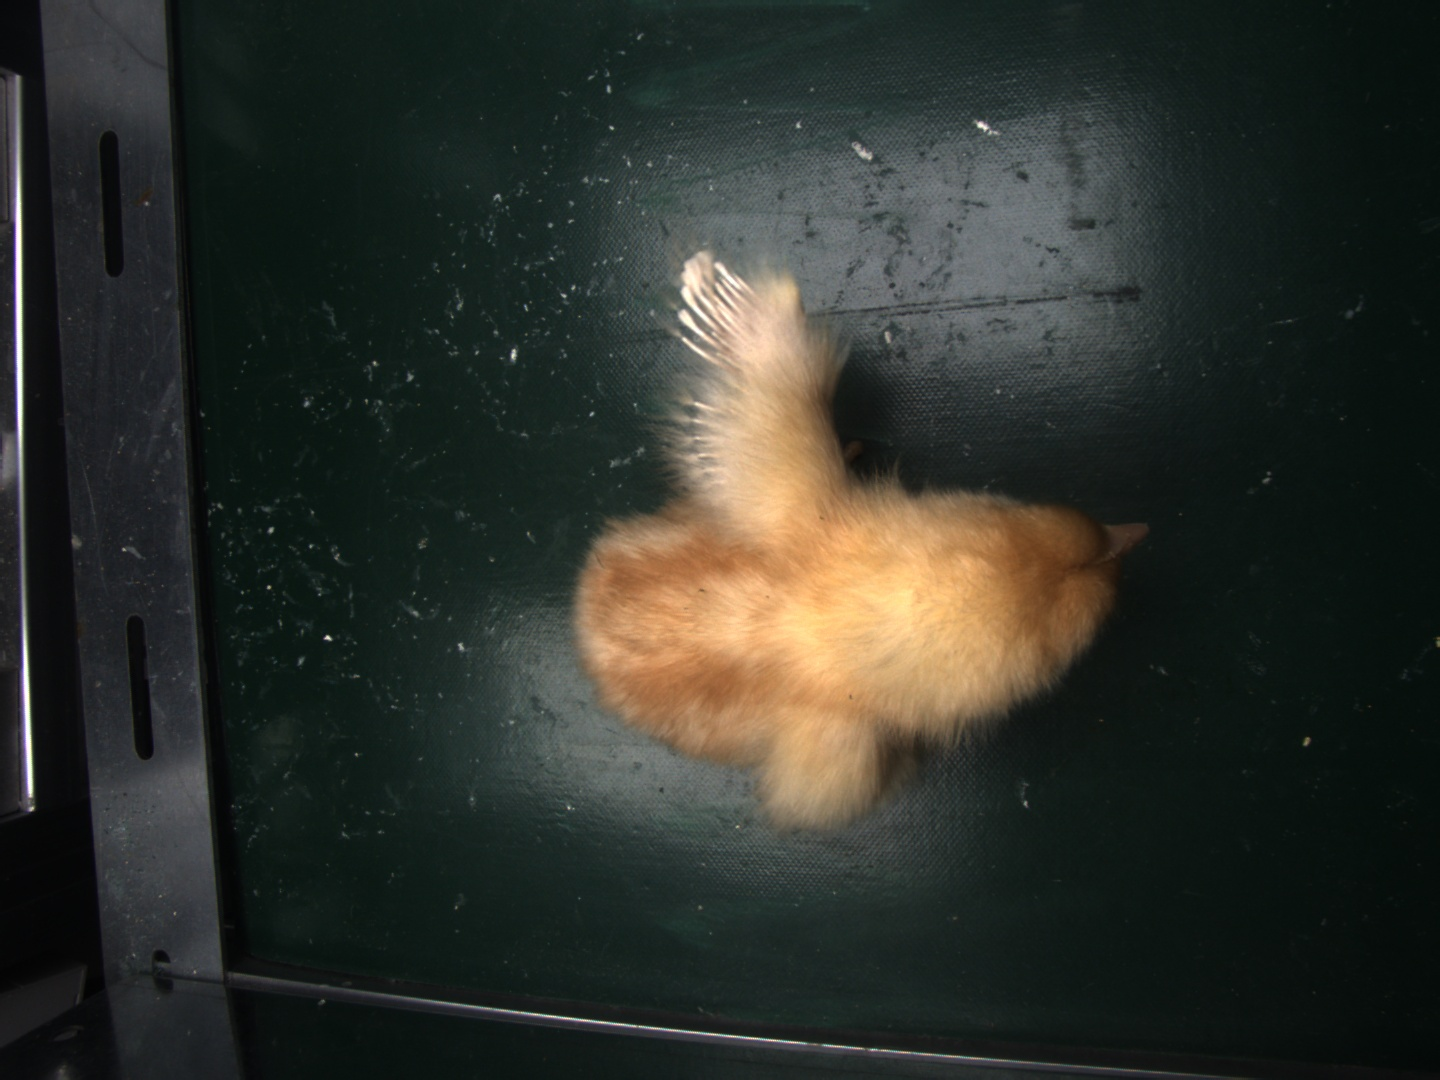female: (676, 248, 754, 366)
